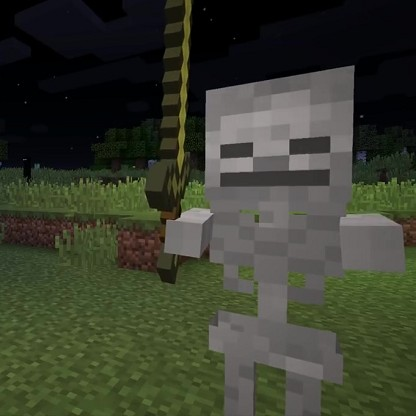skeleton: (168, 63, 399, 405)
